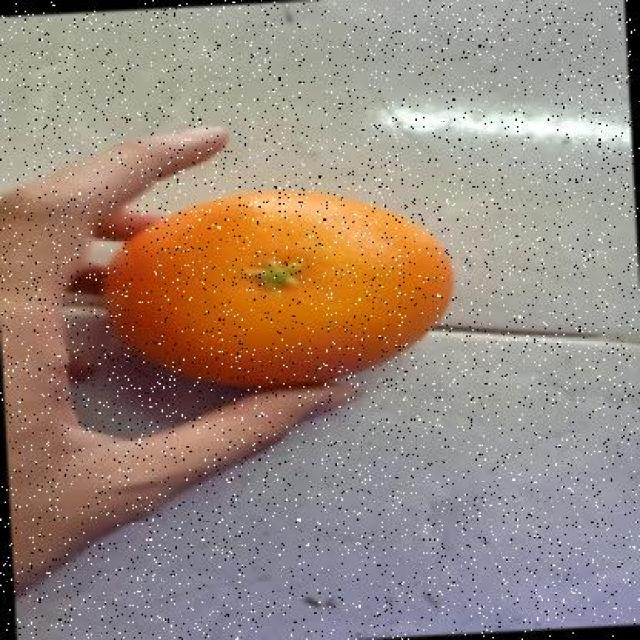Orange: (102, 186, 456, 389)
